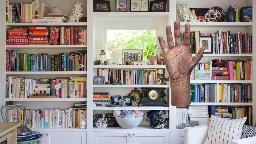Mano_aperta: (154, 18, 206, 78)
